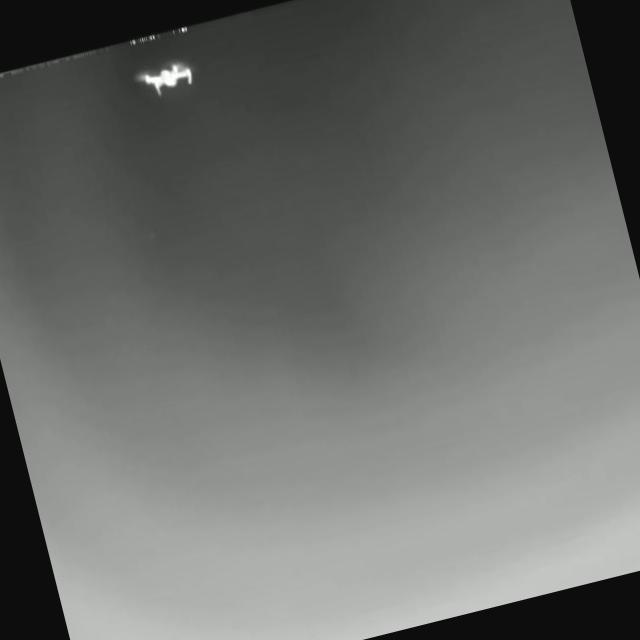DRONE: (133, 59, 196, 97)
